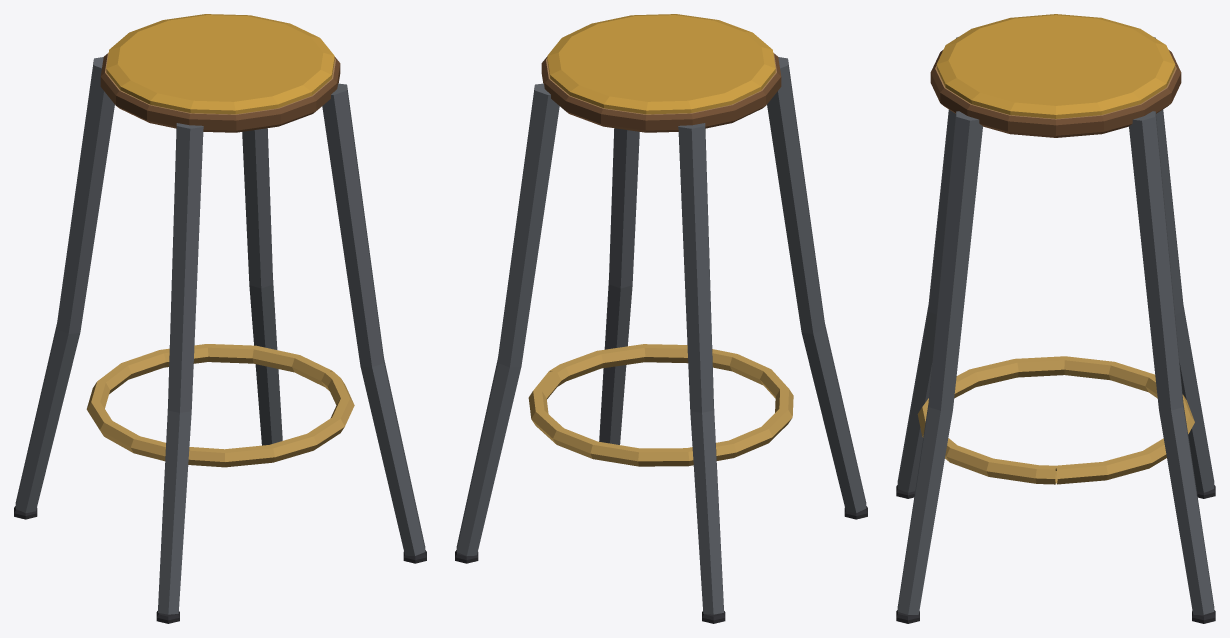
The model's file is FN_Stool_Bar.glb.
3 views of the same model, side by side, from view 1: azimuth 30°, elevation 25°; view 2: azimuth 150°, elevation 25°; view 3: azimuth 270°, elevation 25° (orthographic). The views are drawn at different scales.
Parts seen in each view (by area): view 1: FN_Stool_Bar; view 2: FN_Stool_Bar; view 3: FN_Stool_Bar.
Boxes of the visible parts, bbox=[...] form: FN_Stool_Bar: bbox=[14, 14, 426, 623]; FN_Stool_Bar: bbox=[455, 14, 867, 623]; FN_Stool_Bar: bbox=[896, 14, 1215, 623].
Size of the model in its own units: 0.4439 by 0.75 by 0.4388.
1 material, 1 textured.
